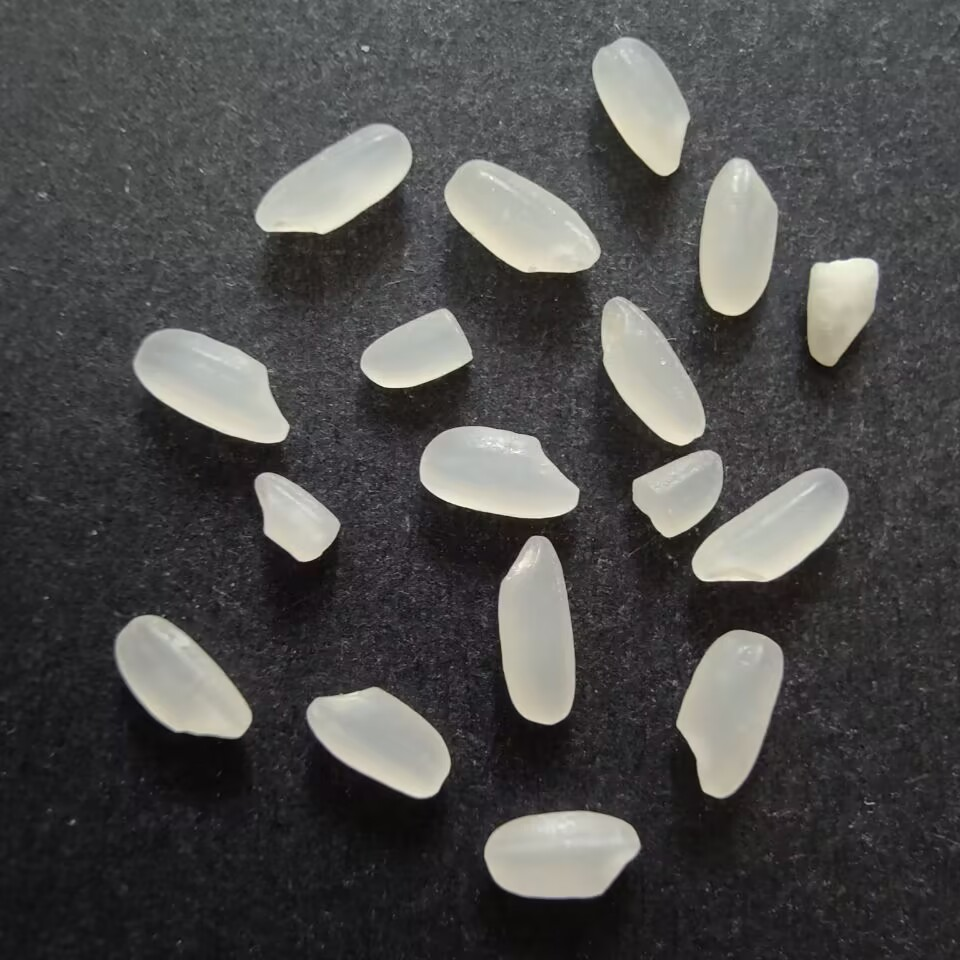broken: (359, 305, 476, 391), (629, 445, 729, 540), (250, 470, 344, 569), (803, 254, 881, 370)
rice: (690, 460, 852, 588), (126, 325, 295, 445), (671, 625, 785, 802), (248, 118, 416, 238), (443, 154, 602, 279), (111, 610, 255, 743), (304, 683, 452, 802), (493, 534, 579, 725), (598, 293, 706, 445), (417, 423, 583, 519), (478, 808, 639, 905), (694, 152, 783, 318), (592, 35, 693, 178)
